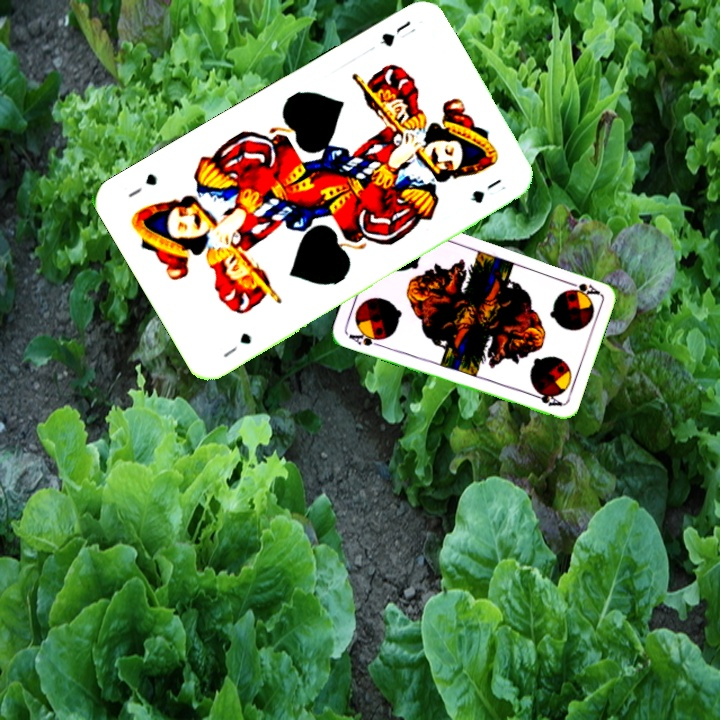GU: (375, 16, 419, 50), (219, 329, 254, 361)
SA: (344, 327, 386, 349), (562, 277, 602, 300)
